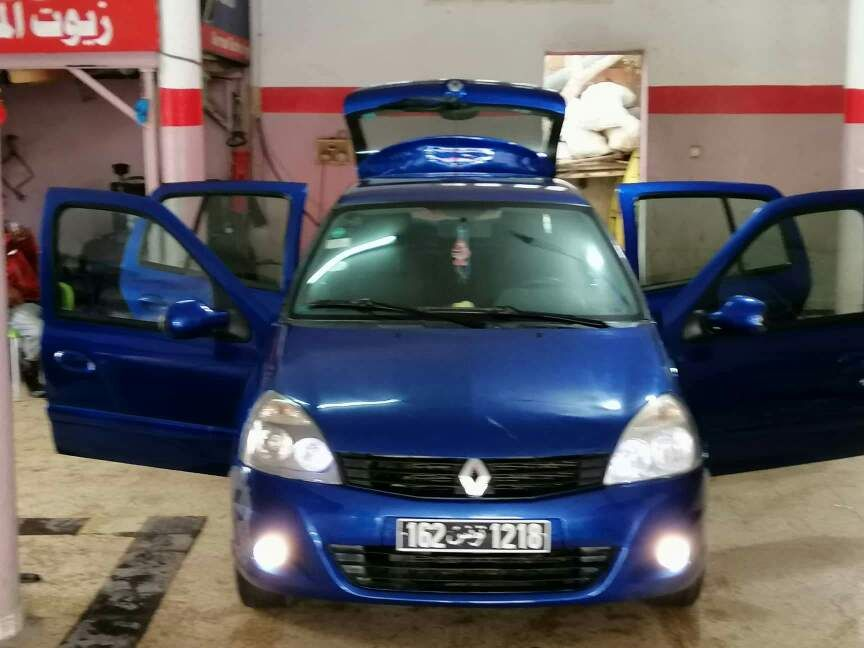LP: (395, 517, 557, 555)
